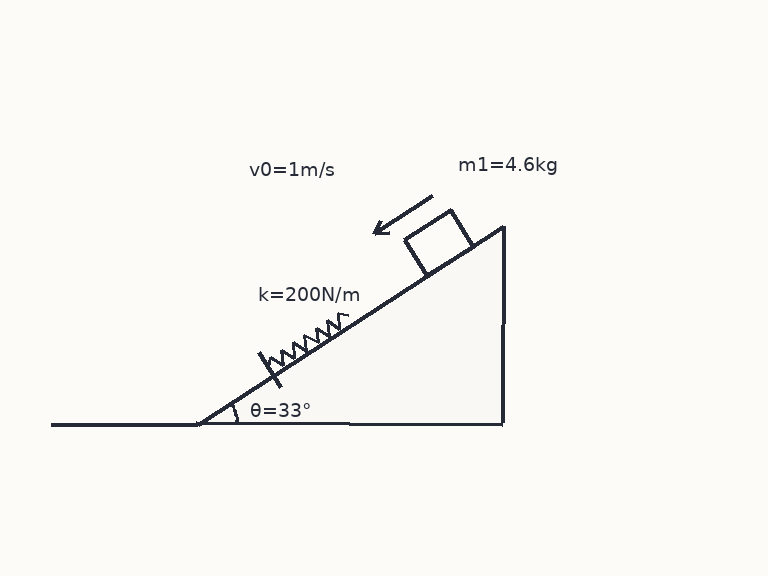block: (402, 208, 475, 277)
ramp: (195, 224, 504, 426)
spring: (266, 311, 350, 369)
